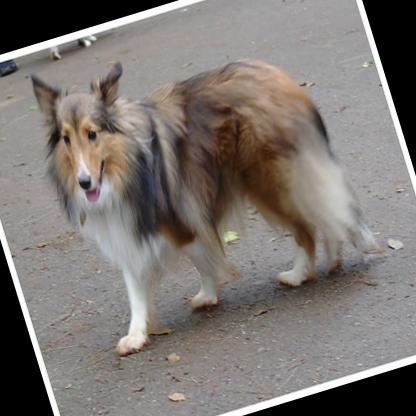Shetland_sheepdog: (10, 0, 394, 366)
